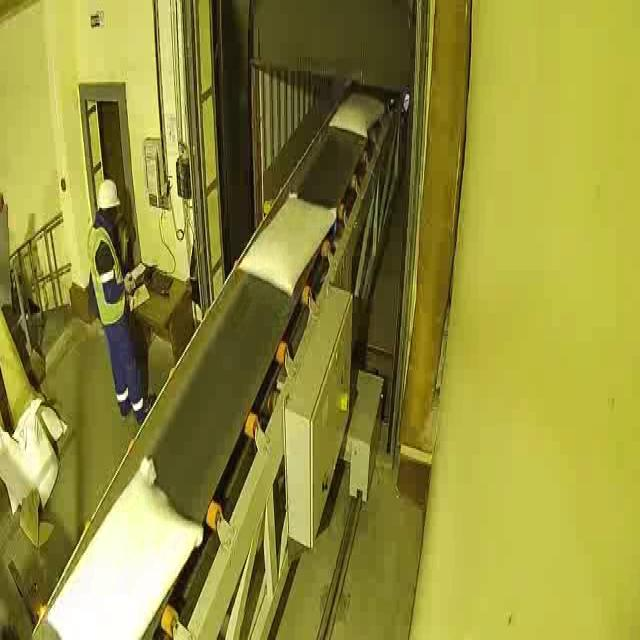bag: (40, 452, 204, 636), (236, 188, 338, 297), (329, 93, 386, 136)
